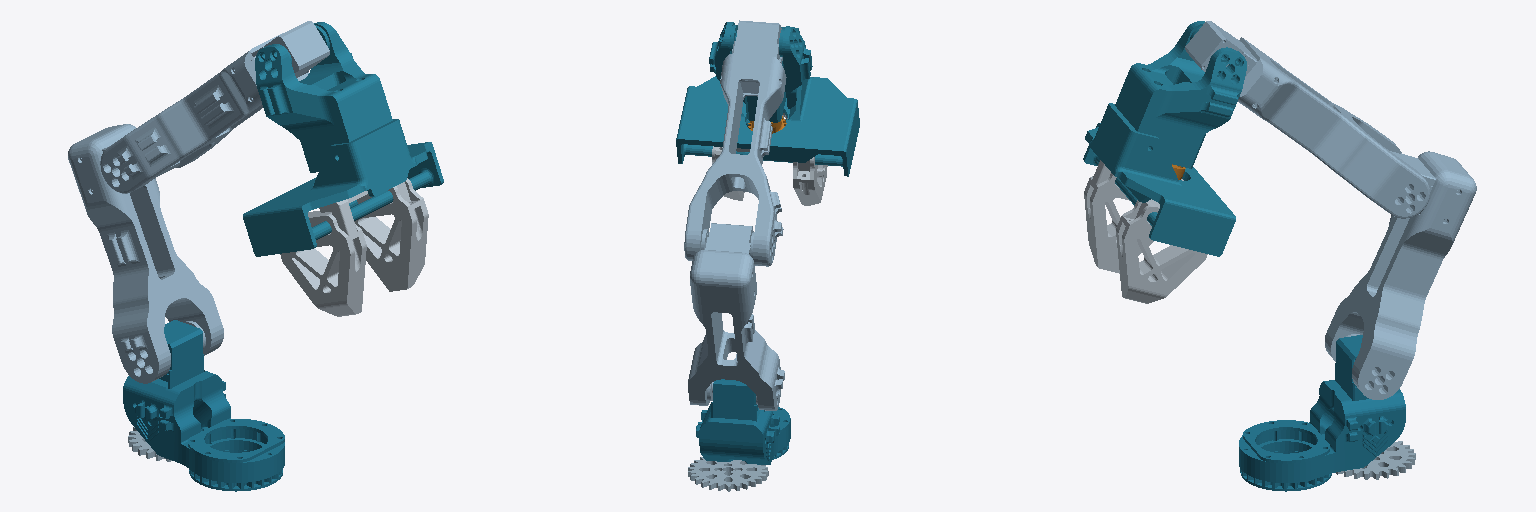
The robot description file, URDF, robot "ENGG1101_Robot_Arm":
<?xml version='1.0' encoding='utf-8'?>
<robot name="ENGG1101_Robot_Arm">
  <!--CAD geometry and relations. q=0 is the exported Fusion pose. Inertias are coarse approximations; kinematics use only.-->
  <mujoco>
    <compiler discardvisual="false" fusestatic="false" />
  </mujoco>
  <link name="base">
    <inertial>
      <origin xyz="0 0.04539999982 0.03140000006" />
      <mass value="0.24519130450467208" />
      <inertia ixx="0.0012108952604038287" iyy="0.0006436239313262166" izz="0.0016933533120596397" ixy="0" ixz="0" iyz="0" />
    </inertial>
    <visual>
      <geometry>
        <mesh filename="base.obj" />
      </geometry>
      <material name="base_material">
        <color rgba="0.25 0.31 0.38 1" />
      </material>
    </visual>
  </link>
  <link name="base_gear">
    <inertial>
      <origin xyz="-5.03069808e-17 3.122502257e-17 0.001900000048" />
      <mass value="0.01" />
      <inertia ixx="2.6687623426743405e-06" iyy="2.6662204408954375e-06" izz="5.2201661208594085e-06" ixy="0" ixz="0" iyz="0" />
    </inertial>
    <visual>
      <geometry>
        <mesh filename="base_gear.obj" />
      </geometry>
      <material name="base_gear_material">
        <color rgba="0.62 0.71 0.77 1" />
      </material>
    </visual>
  </link>
  <link name="yaw_platform">
    <inertial>
      <origin xyz="-0.00779299831 0.02177250193 0.02929999978" />
      <mass value="0.057638017355055735" />
      <inertia ixx="7.802776681206849e-05" iyy="5.447690969060774e-05" izz="7.584420013886735e-05" ixy="0" ixz="0" iyz="0" />
    </inertial>
    <visual>
      <geometry>
        <mesh filename="yaw_platform.obj" />
      </geometry>
      <material name="yaw_platform_material">
        <color rgba="0.17 0.50 0.61 1" />
      </material>
    </visual>
  </link>
  <link name="upper_arm">
    <inertial>
      <origin xyz="-0.01925652939 0.01721299038 0.06000194063" />
      <mass value="0.10037441313230537" />
      <inertia ixx="0.00025064157646647787" iyy="0.00022519165919379825" izz="0.00011752539467546681" ixy="0" ixz="0" iyz="0" />
    </inertial>
    <visual>
      <geometry>
        <mesh filename="upper_arm.obj" />
      </geometry>
      <material name="upper_arm_material">
        <color rgba="0.62 0.73 0.81 1" />
      </material>
    </visual>
  </link>
  <link name="forearm">
    <inertial>
      <origin xyz="-0.002785319143 -0.05754896901 0.0520089019" />
      <mass value="0.17428493294969638" />
      <inertia ixx="0.0005717740014158129" iyy="0.00036603010015766595" izz="0.00043702753373412763" ixy="0" ixz="0" iyz="0" />
    </inertial>
    <visual>
      <geometry>
        <mesh filename="forearm.obj" />
      </geometry>
      <material name="forearm_material">
        <color rgba="0.62 0.73 0.81 1" />
      </material>
    </visual>
  </link>
  <link name="wrist_carrier">
    <inertial>
      <origin xyz="-0.002978787186 -0.03606921162 -0.04837047925" />
      <mass value="0.1555654655090856" />
      <inertia ixx="0.00031123933637478116" iyy="0.00040725615696567336" izz="0.0003530428126332121" ixy="0" ixz="0" iyz="0" />
    </inertial>
    <visual>
      <geometry>
        <mesh filename="wrist_carrier.obj" />
      </geometry>
      <material name="wrist_carrier_material">
        <color rgba="0.19 0.53 0.63 1" />
      </material>
    </visual>
  </link>
  <link name="gripper_pinion">
    <inertial>
      <origin xyz="0.001958707092 -0.004714702067 -0.008515274109" />
      <mass value="0.01" />
      <inertia ixx="1.190340624365102e-06" iyy="1.1531876453303606e-06" izz="1.286388803900213e-06" ixy="0" ixz="0" iyz="0" />
    </inertial>
    <visual>
      <geometry>
        <mesh filename="gripper_pinion.obj" />
      </geometry>
      <material name="gripper_pinion_material">
        <color rgba="0.74 0.49 0.19 1" />
      </material>
    </visual>
  </link>
  <link name="jaw_a">
    <inertial>
      <origin xyz="0.02379635072 -0.01749711957 -0.01075837145" />
      <mass value="0.03122225775681251" />
      <inertia ixx="2.493646441325443e-05" iyy="2.8262915799724918e-05" izz="2.0883717334735523e-05" ixy="0" ixz="0" iyz="0" />
    </inertial>
    <visual>
      <geometry>
        <mesh filename="jaw_a.obj" />
      </geometry>
      <material name="jaw_a_material">
        <color rgba="0.73 0.78 0.82 1" />
      </material>
    </visual>
  </link>
  <link name="jaw_b">
    <inertial>
      <origin xyz="-0.01434968814 -0.01466790104 -0.01518092147" />
      <mass value="0.03329500970641971" />
      <inertia ixx="2.4853764538588577e-05" iyy="2.904573353006712e-05" izz="2.6740233902928078e-05" ixy="0" ixz="0" iyz="0" />
    </inertial>
    <visual>
      <geometry>
        <mesh filename="jaw_b.obj" />
      </geometry>
      <material name="jaw_b_material">
        <color rgba="0.73 0.78 0.82 1" />
      </material>
    </visual>
  </link>
  <joint name="base_yaw" type="continuous">
    <parent link="base" />
    <child link="yaw_platform" />
    <origin xyz="0 0 0.0497" rpy="0 0 0" />
    <axis xyz="-1.556789188e-19 -3.269411884e-19 -1" />
    <limit lower="-3.141592653589793" upper="3.141592653589793" effort="1" velocity="1" />
  </joint>
  <joint name="base_gear_drive" type="continuous">
    <parent link="base" />
    <child link="base_gear" />
    <origin xyz="-0.0128 0.05040000097 0.04005" rpy="0 0 0" />
    <axis xyz="9.564450772e-16 1.232648437e-15 -1" />
    <limit lower="-3.141592653589793" upper="3.141592653589793" effort="1" velocity="1" />
    <mimic joint="base_yaw" multiplier="-1.0" offset="0" />
  </joint>
  <joint name="shoulder" type="revolute">
    <parent link="yaw_platform" />
    <child link="upper_arm" />
    <origin xyz="-0.001148084157 0.05207040333 0.0577" rpy="0 0 0" />
    <axis xyz="-0.9402479141 -0.3404906166 -6.404299223e-17" />
    <limit lower="-2.110789656833712" upper="1.2402425069954008" effort="1" velocity="1" />
  </joint>
  <joint name="elbow" type="revolute">
    <parent link="upper_arm" />
    <child link="forearm" />
    <origin xyz="-0.006135781789 0.01841212569 0.1189216373" rpy="0 0 0" />
    <axis xyz="-0.9402479141 -0.3404906166 3.796357731e-15" />
    <limit lower="-1.8647940703614032" upper="1.521144678507596" effort="1" velocity="1" />
  </joint>
  <joint name="wrist_pitch" type="revolute">
    <parent link="forearm" />
    <child link="wrist_carrier" />
    <origin xyz="0.03923147545 -0.1080420757 0.1033874809" rpy="0 0 0" />
    <axis xyz="-0.9402479141 -0.3404906166 5.27102195e-15" />
    <limit lower="-0.005125175246732061" upper="3.6077063763815302" effort="1" velocity="1" />
  </joint>
  <joint name="gripper_drive" type="revolute">
    <parent link="wrist_carrier" />
    <child link="gripper_pinion" />
    <origin xyz="-0.005424859534 -0.03274477062 -0.06924533122" rpy="0 0 0" />
    <axis xyz="-0.1313013867 0.3625822532 0.922655979" />
    <limit lower="-1.12105363886072" upper="1.59894636113928" effort="1" velocity="1" />
  </joint>
  <joint name="jaw_a_slide" type="prismatic">
    <parent link="wrist_carrier" />
    <child link="jaw_a" />
    <origin xyz="-0.03351460613 -0.03884039784 -0.09897261534" rpy="0 0 0" />
    <axis xyz="-0.9402479141 -0.3404906166 5.5612779e-15" />
    <limit lower="-0.019986829514241" upper="0.014013170485759001" effort="1" velocity="1" />
    <mimic joint="gripper_drive" multiplier="-0.0125" offset="0" />
  </joint>
  <joint name="jaw_b_slide" type="prismatic">
    <parent link="wrist_carrier" />
    <child link="jaw_b" />
    <origin xyz="0.02005475793 -0.01944140155 -0.09897261534" rpy="0 0 0" />
    <axis xyz="0.9402479141 0.3404906166 -5.418328032e-15" />
    <limit lower="-0.019986829514241" upper="0.014013170485759001" effort="1" velocity="1" />
    <mimic joint="jaw_a_slide" multiplier="1.0" offset="0" />
  </joint>
  <link name="tool_tip" />
  <joint name="tool_mount" type="fixed">
    <parent link="wrist_carrier" />
    <child link="tool_tip" />
    <origin xyz="0.005532242792 -0.06300226309 -0.1462409799" rpy="-2.745708513 -4.718447855e-15 -2.79415401" />
  </joint>
</robot>

--- What the picture shows (computed from the rendered views, not written in the file) ---
The picture shows the robot from 3 angles, left to right: view 1: azimuth 30°, elevation 25°; view 2: azimuth 150°, elevation 25°; view 3: azimuth 270°, elevation 25°; orthographic projection.
Robot: ENGG1101_Robot_Arm — 10 links, 9 joints (4 revolute, 2 continuous, 2 prismatic, 1 fixed); root link base; default pose: every joint at zero.
Visible links, largest first — view 1: wrist_carrier, upper_arm, yaw_platform, forearm, jaw_a, jaw_b; view 2: wrist_carrier, forearm, upper_arm, yaw_platform, base_gear, jaw_a; view 3: wrist_carrier, upper_arm, forearm, yaw_platform, jaw_b, jaw_a, base_gear.
Link boxes in pixels (left/top/right/bottom): wrist_carrier: left=243, top=22, right=443, bottom=256; upper_arm: left=68, top=124, right=223, bottom=383; yaw_platform: left=123, top=320, right=284, bottom=491; forearm: left=100, top=21, right=329, bottom=193; jaw_a: left=280, top=191, right=367, bottom=316; jaw_b: left=354, top=178, right=428, bottom=291; wrist_carrier: left=676, top=22, right=859, bottom=176; forearm: left=684, top=20, right=786, bottom=266; upper_arm: left=688, top=223, right=784, bottom=410; yaw_platform: left=696, top=379, right=790, bottom=464; base_gear: left=688, top=457, right=768, bottom=491; jaw_a: left=782, top=113, right=827, bottom=205; wrist_carrier: left=1083, top=21, right=1246, bottom=256; upper_arm: left=1325, top=151, right=1476, bottom=399; forearm: left=1185, top=21, right=1429, bottom=218; yaw_platform: left=1239, top=335, right=1405, bottom=491; jaw_b: left=1116, top=179, right=1207, bottom=303; jaw_a: left=1084, top=160, right=1153, bottom=273; base_gear: left=1336, top=441, right=1415, bottom=479.
Bounding box of the posed robot: 0.1523 × 0.2389 × 0.3062 m (x, y, z).
8 mesh visuals loaded from 9 distinct referenced files (8 OBJ); not drawn: 1 (reference not matched to a file when rendering).
